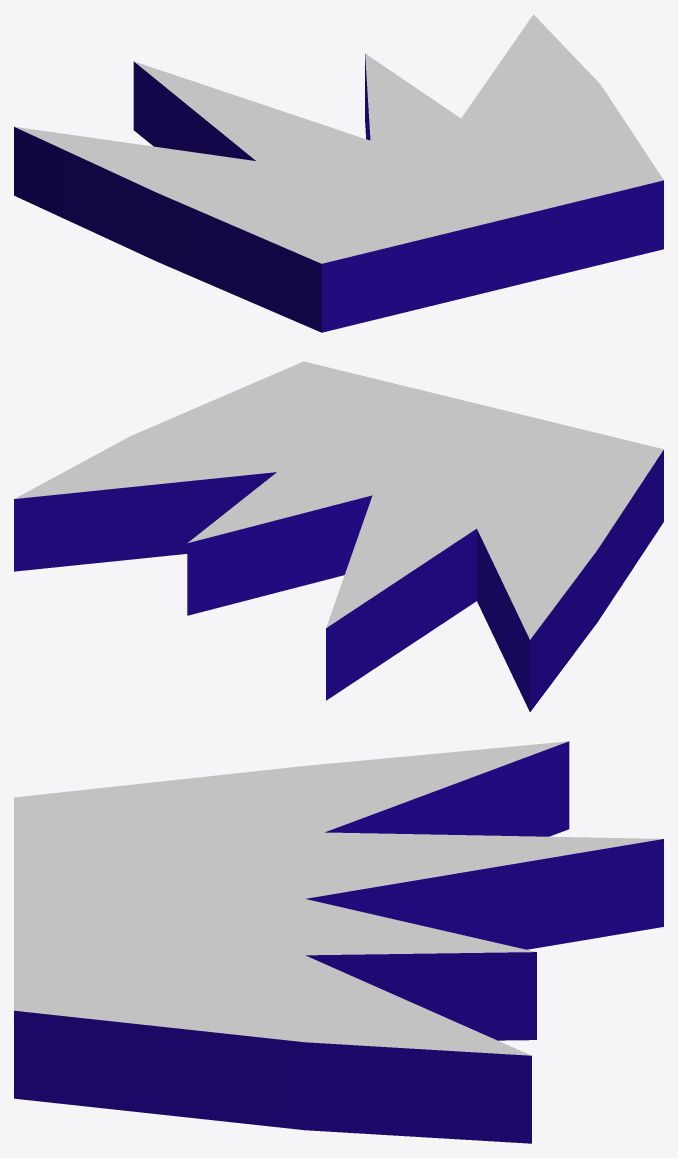
Rendered from fourspikes_Crown_N_2.fbx.
The picture shows the model from 3 angles, top to bottom: view 1: azimuth 30°, elevation 25°; view 2: azimuth 150°, elevation 25°; view 3: azimuth 270°, elevation 25°; orthographic projection. The views are drawn at different scales.
Parts seen in each view (by area): view 1: pCube1; view 2: pCube1; view 3: pCube1.
Part boxes in pixels (x1,y1,x2,y2): pCube1: [14, 14, 663, 332]; pCube1: [14, 361, 663, 711]; pCube1: [14, 741, 663, 1143].
Size of the model in its own units: 3.69 by 0.4813 by 3.22.
